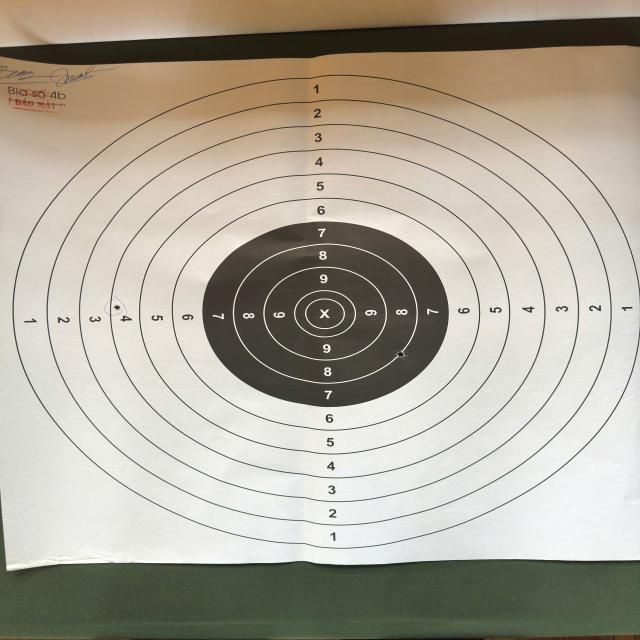bullet: (396, 351, 407, 358), (114, 305, 120, 310)
target: (0, 46, 640, 569)
